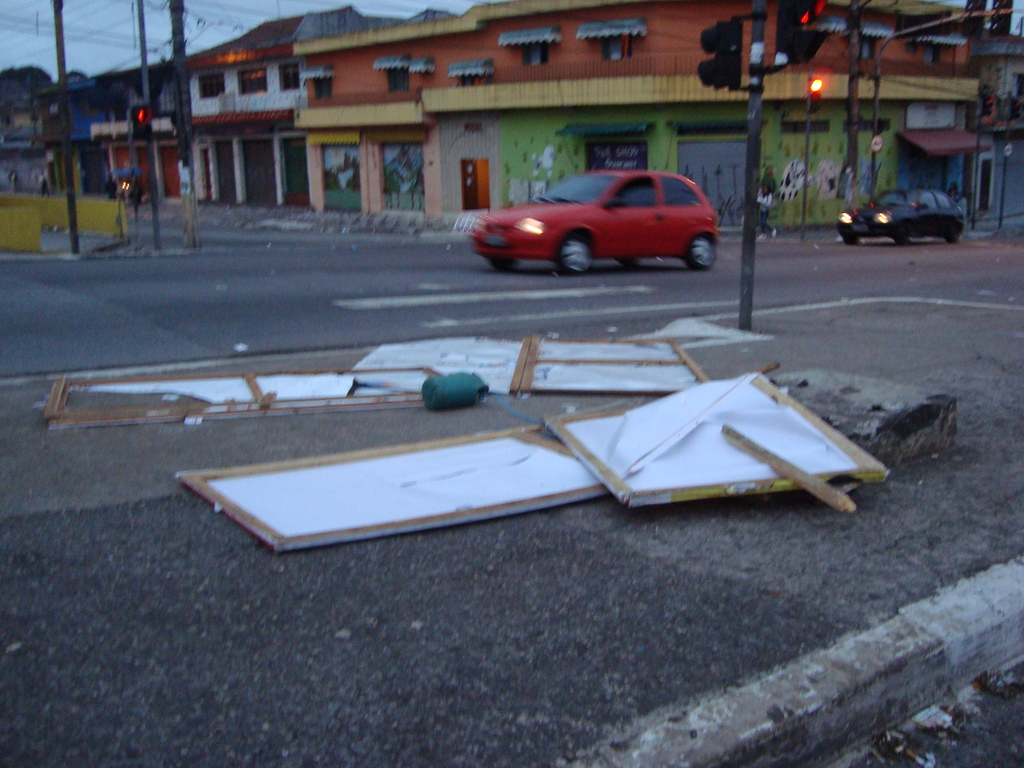Car: (467, 172, 720, 277), (835, 188, 966, 247)
